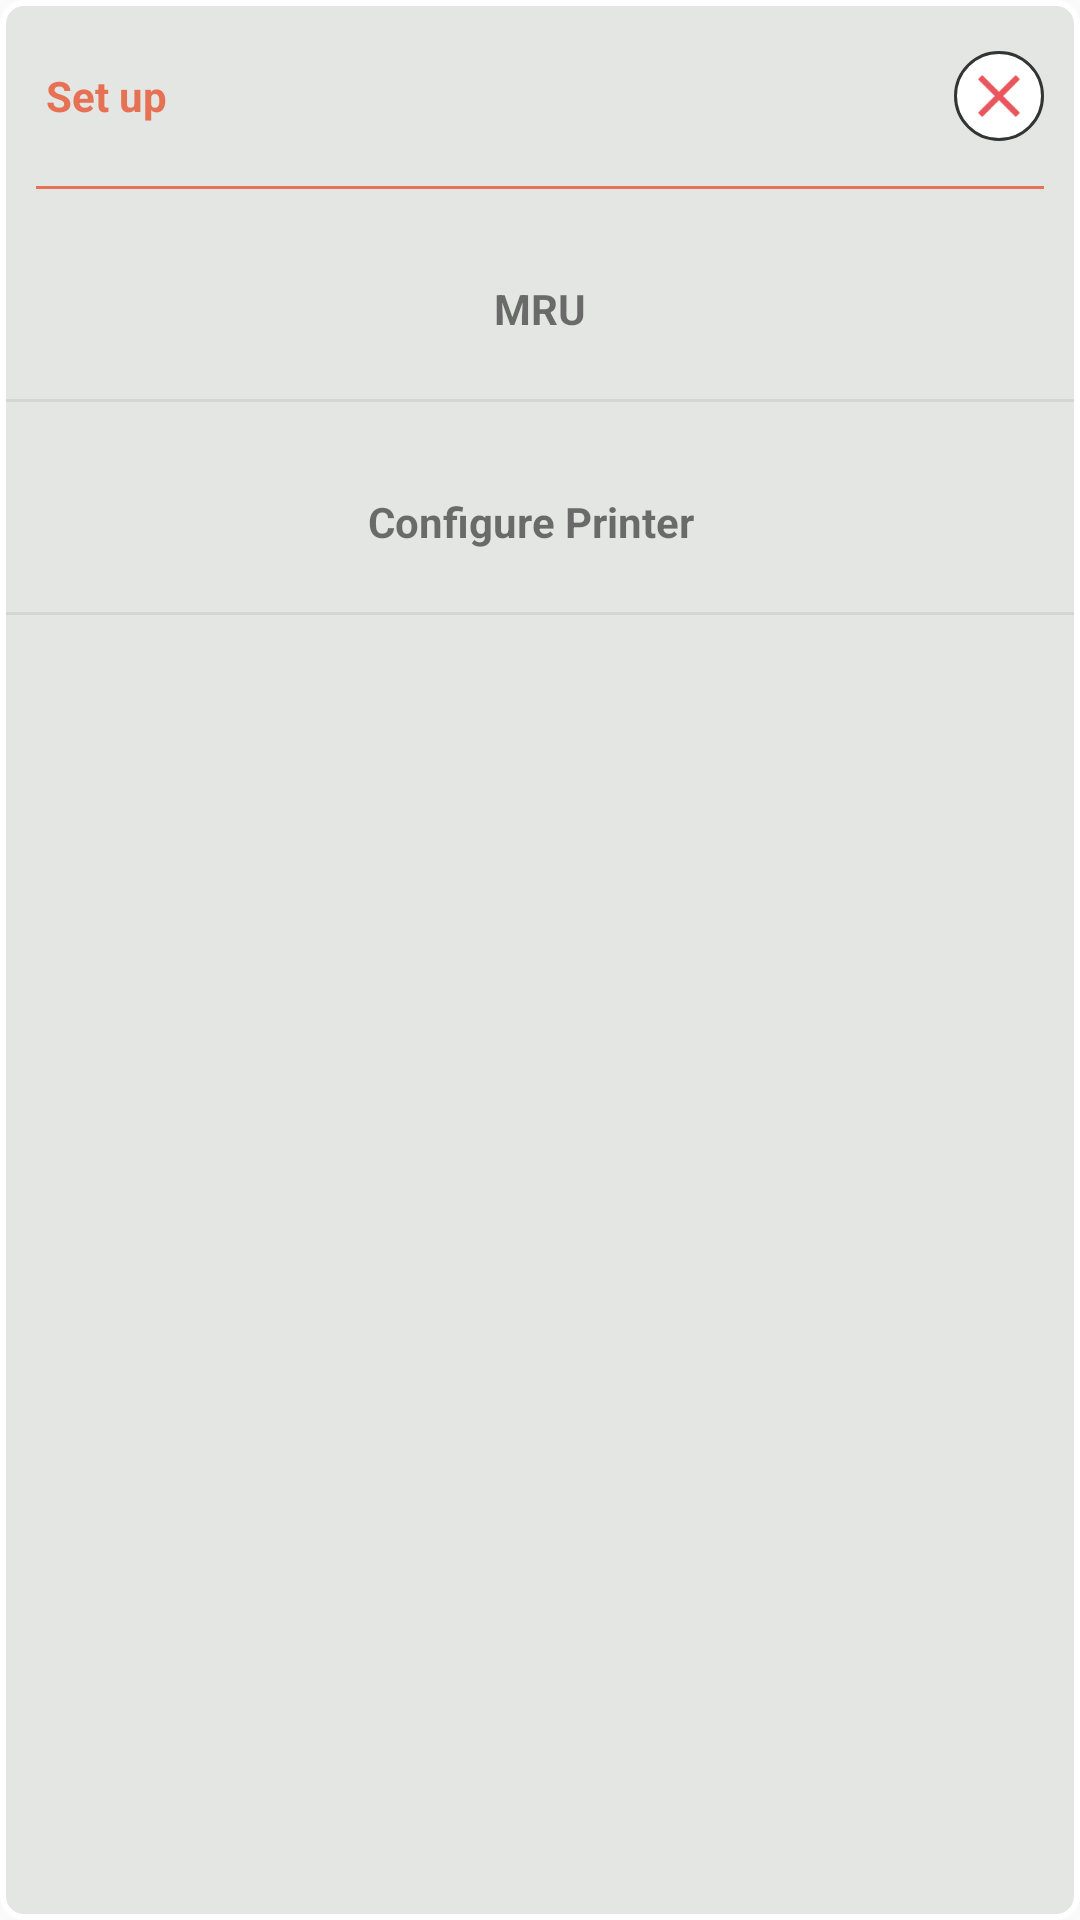

Where icons sit on this 1080 × 1920 app screen, as (x1, y1, x2, y2):
close: (954, 51, 1044, 141)
